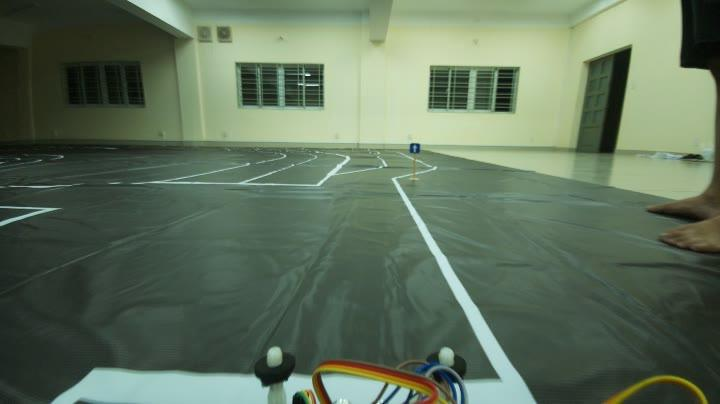onewayroad: (409, 139, 425, 157)
